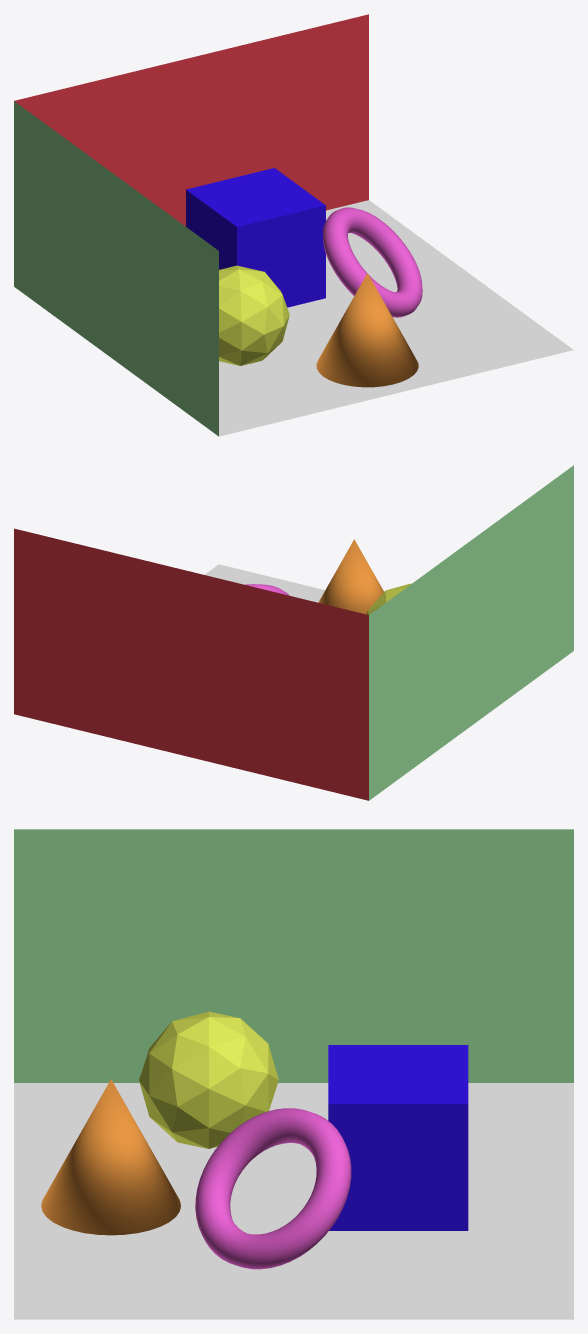
3 renders of one model, top to bottom at view 1: azimuth 30°, elevation 25°; view 2: azimuth 150°, elevation 25°; view 3: azimuth 270°, elevation 25°, orthographic. The views are drawn at different scales.
Parts seen in each view (by area): view 1: Wall-Back, Wall-Left, Floor, Cube.001, Cone, Icosphere, Torus.001; view 2: Wall-Back, Wall-Left, Cone, Floor; view 3: Wall-Left, Floor, Cube.001, Icosphere, Torus.001, Cone.
Boxes of the visible parts, left/top/right/bottom form: Wall-Back: left=14, top=14, right=368, bottom=226; Wall-Left: left=14, top=101, right=218, bottom=436; Floor: left=219, top=200, right=573, bottom=436; Cube.001: left=186, top=168, right=325, bottom=307; Cone: left=316, top=273, right=418, bottom=387; Icosphere: left=219, top=265, right=289, bottom=365; Torus.001: left=322, top=207, right=422, bottom=317; Wall-Back: left=14, top=528, right=368, bottom=800; Wall-Left: left=369, top=465, right=573, bottom=800; Cone: left=318, top=539, right=383, bottom=614; Floor: left=205, top=564, right=325, bottom=602; Wall-Left: left=14, top=829, right=573, bottom=1082; Floor: left=14, top=1083, right=573, bottom=1319; Cube.001: left=328, top=1045, right=468, bottom=1230; Icosphere: left=139, top=1011, right=278, bottom=1148; Torus.001: left=195, top=1108, right=351, bottom=1269; Cone: left=41, top=1079, right=180, bottom=1235.
Size of the model in its own units: 2 by 1 by 2.
